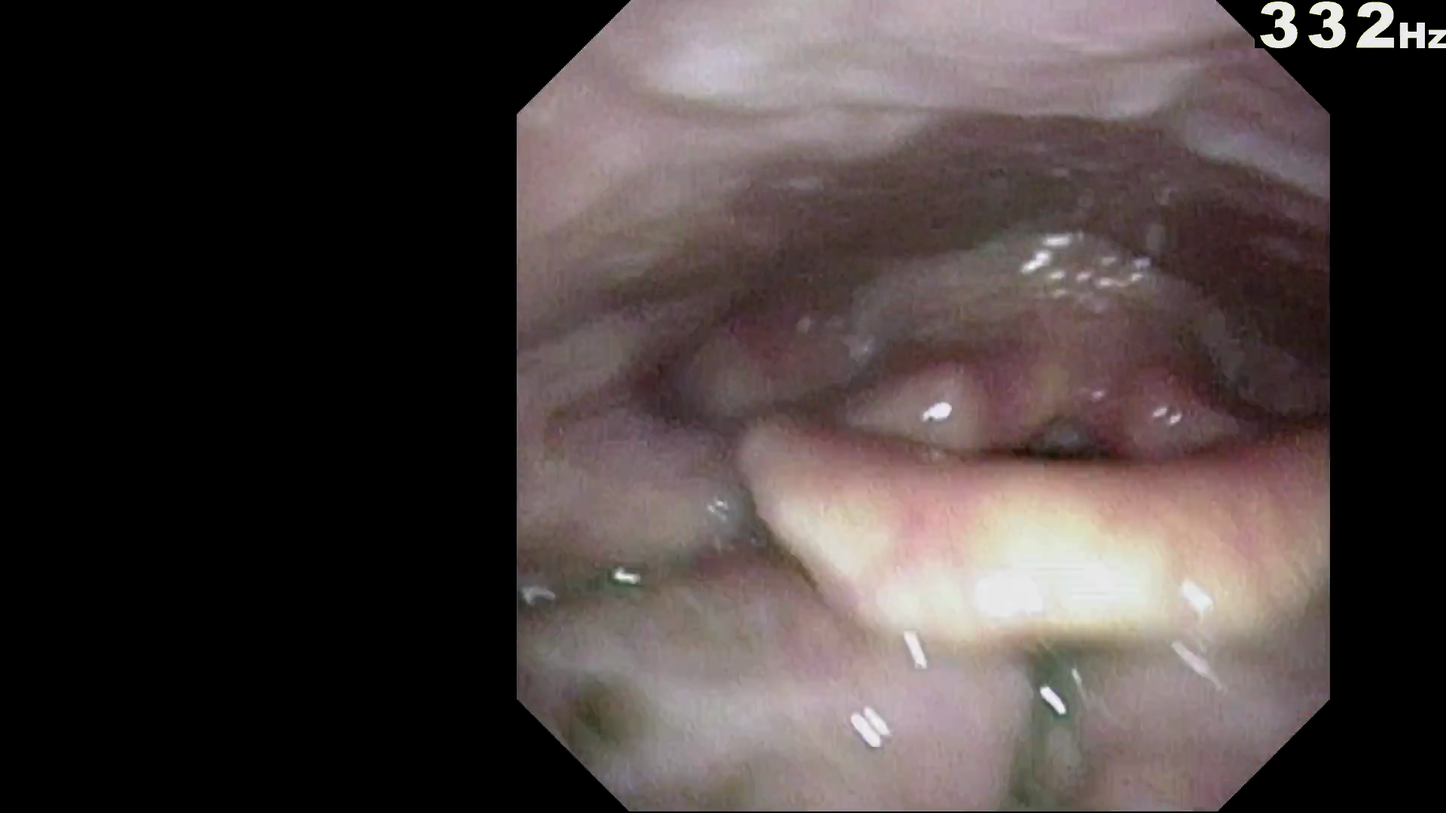epiglottis: (702, 366, 1320, 592), (716, 427, 1321, 643)
trachea: (999, 417, 1120, 536)
